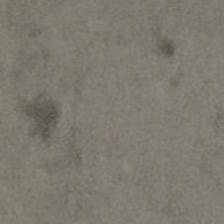Non_Crack: (30, 35, 218, 224)
